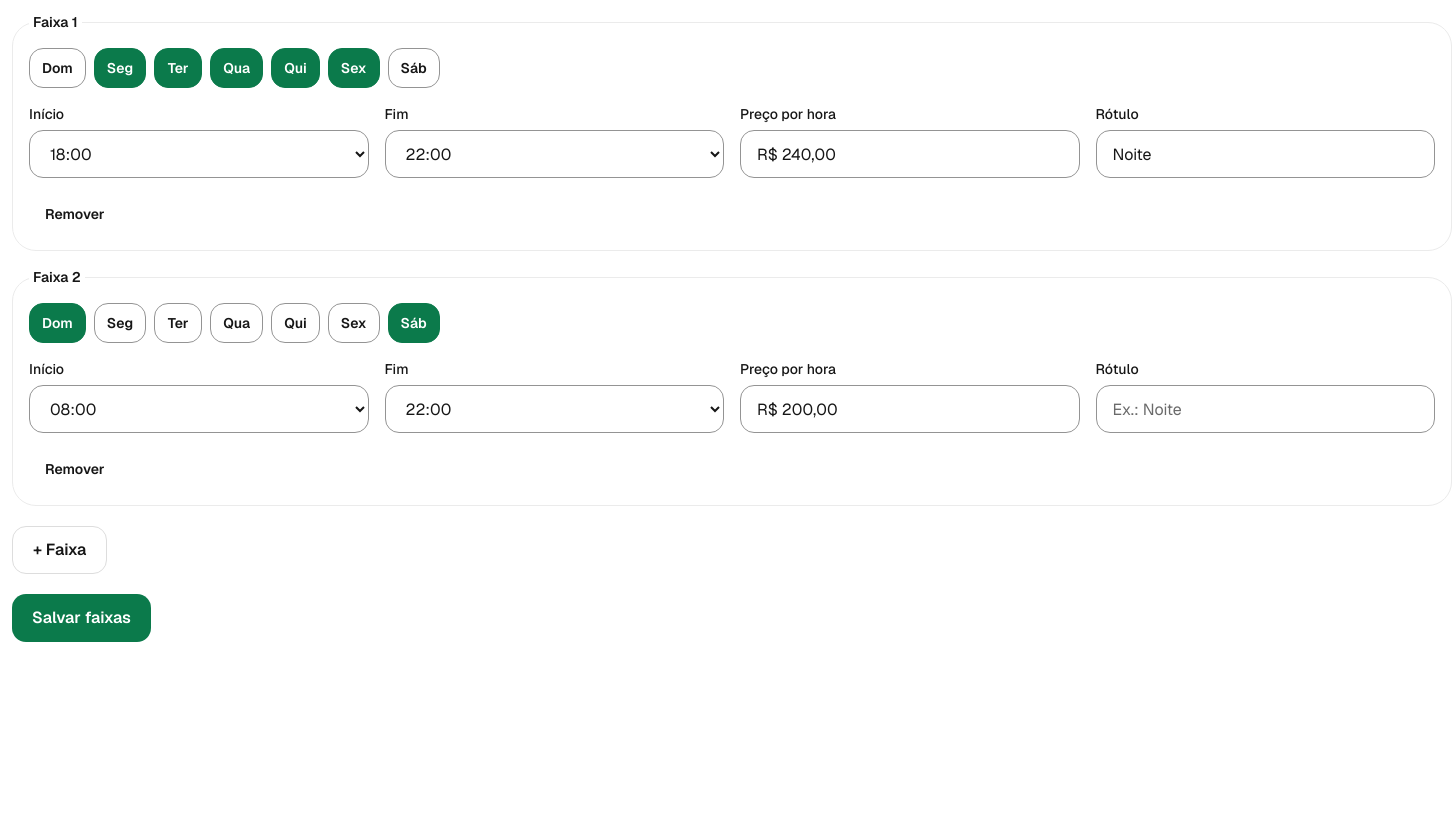
PriceRulesEditor › shows the server overlap message on the matching row (errors "1" is row 2)
Click the button "Salvar faixas": (81, 618) x1=12 y1=594 x2=151 y2=642
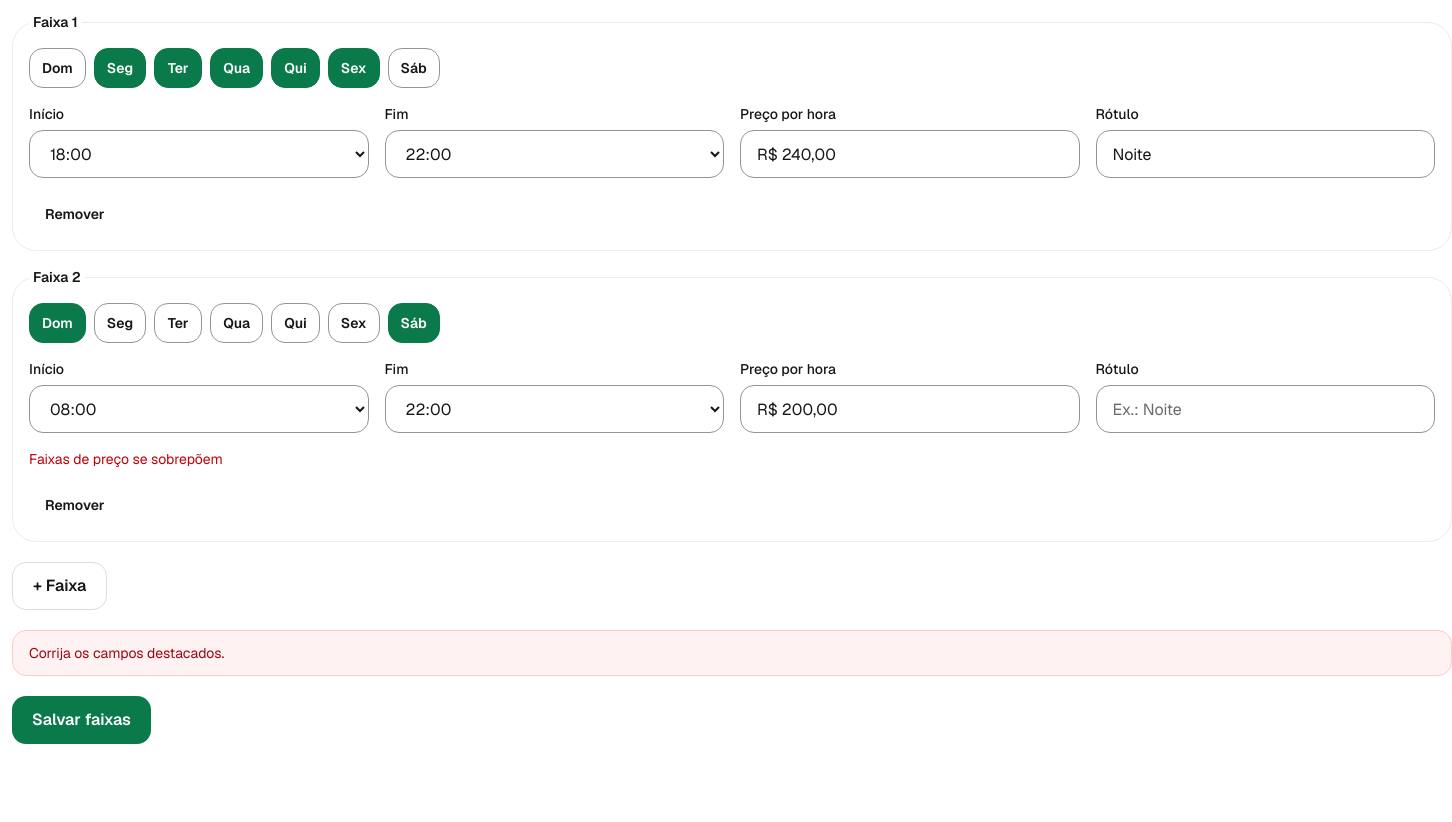
Result: the text "Faixas de preço se sobrepõem" is shown at x1=29 y1=450 x2=223 y2=468
Result: the message reads "Corrija os campos destacados." at x1=29 y1=644 x2=224 y2=662
